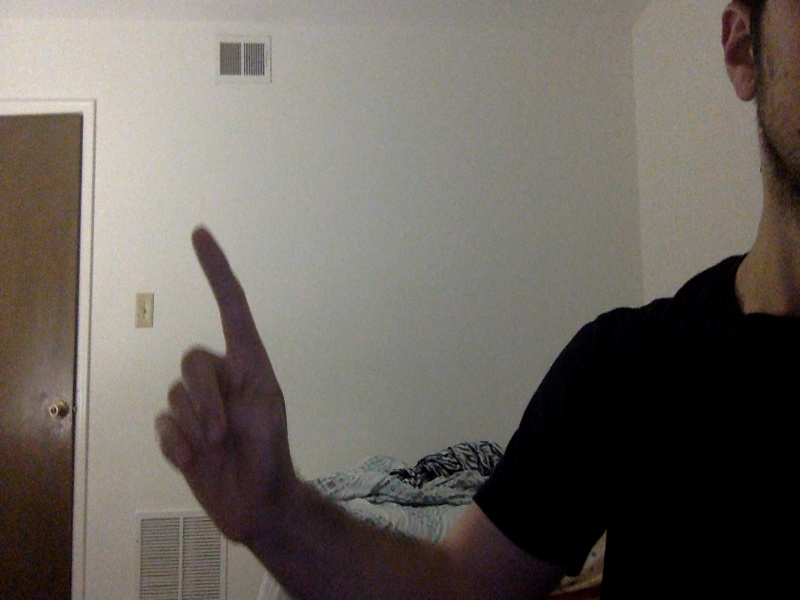1-hand: (153, 227, 308, 570)
